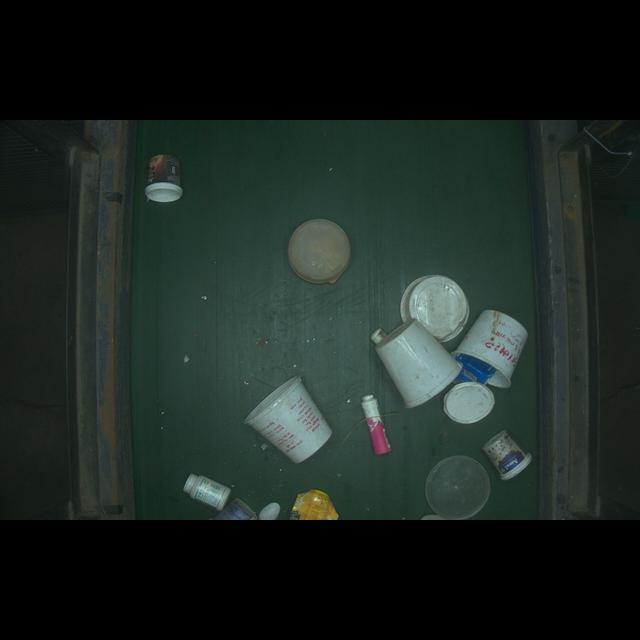mix PP: (282, 211, 354, 288), (350, 388, 401, 461), (480, 423, 535, 481), (144, 150, 186, 211), (183, 465, 230, 511)
